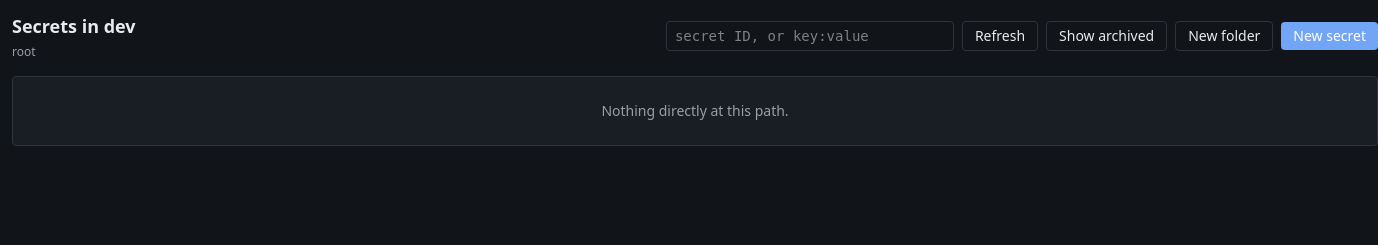
SecretsCatalog search › returns to tree browsing once the query is cleared
Step 1. Type "stripe" into the search field with id "catalog-filter" → [810, 36], box [666,21,954,51]
Wait 300 ms
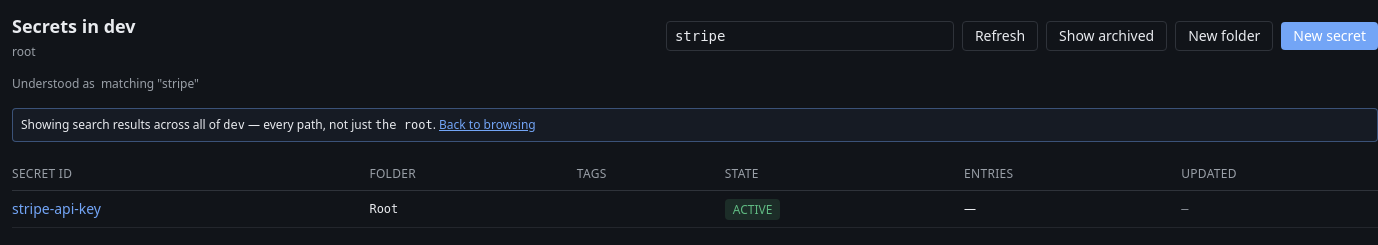
Expected: the text "Showing search results across all of" is shown, [21,116,223,133]
Step 2. Clear the search field with id "catalog-filter" → [810, 36], box [666,21,954,51]
Wait 300 ms
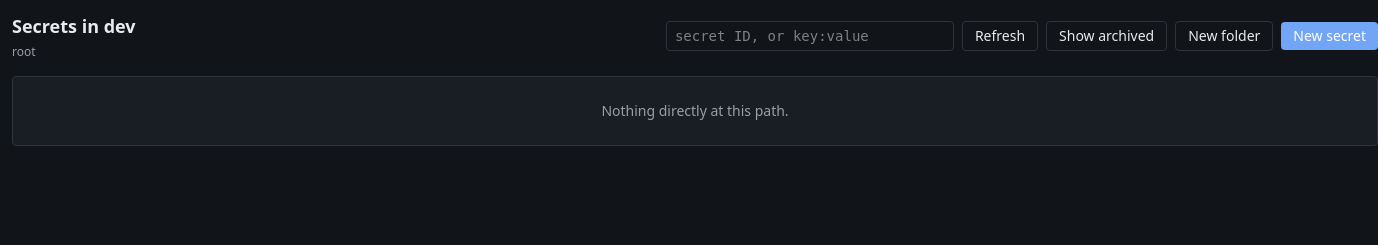
Expected: the text "Showing search results across all of" is gone
Expected: the text "Nothing directly at this path." is shown, [12,76,1377,146]
